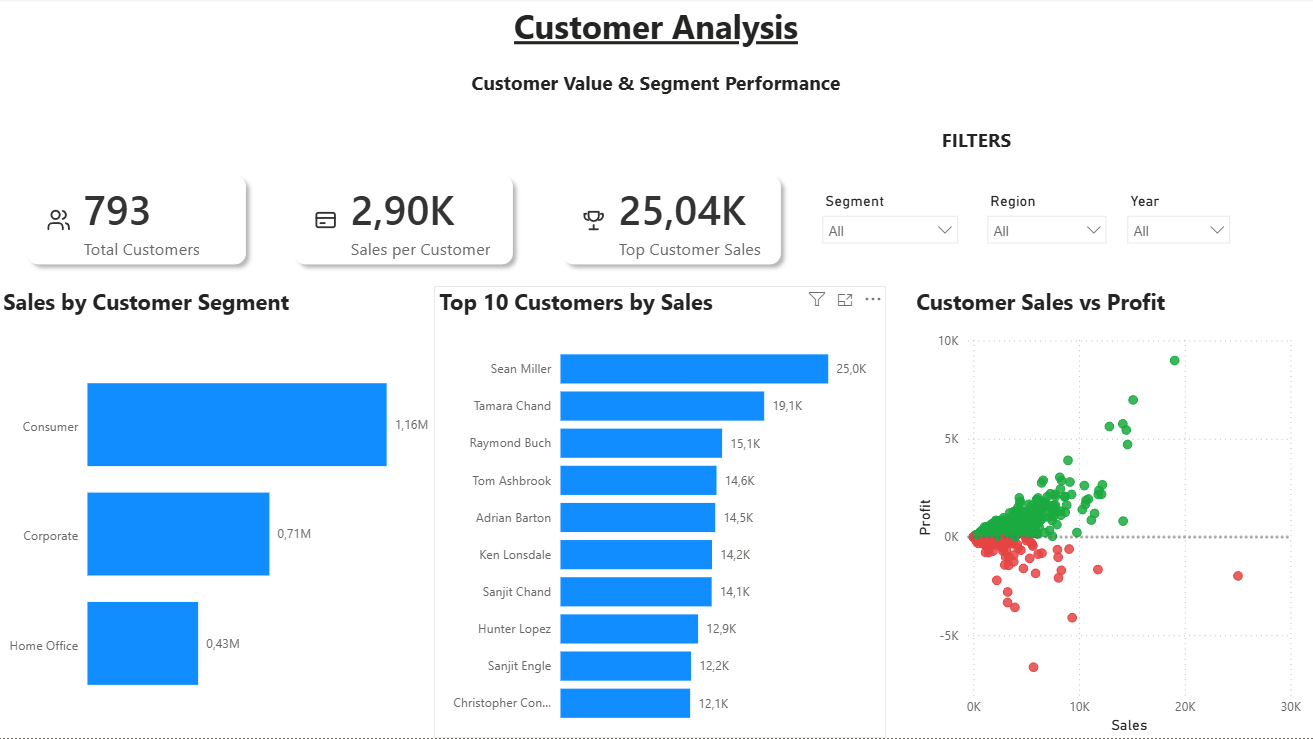

This screenshot's page, from the dashboard's own definition file:
{"tool":"powerbi","page":{"name":"Customer Analysis","canvas":[1280,720],"ordinal":2},"visuals":[{"type":"textbox","box":[0,0,1280,56],"z":0},{"type":"textbox","box":[0,64,1280,40],"z":1000},{"type":"cardVisual","fields":{"Data":["Date.Total Customers"]},"box":[0,144,270,144],"z":2000},{"type":"cardVisual","fields":{"Data":["Date.Sales per Customer"]},"box":[260,144,270,144],"z":3000},{"type":"cardVisual","fields":{"Data":["Date.Top Customer Sales"]},"box":[520,144,270,144],"z":4000},{"type":"clusteredBarChart","title":"Sales by Customer Segment","fields":{"Y":["Date.Total Sales"],"Category":["Orders.Segment"]},"box":[0,280,424,440],"z":5000},{"type":"clusteredBarChart","title":"Top 10 Customers by Sales","fields":{"Category":["Orders.Customer Name"],"Y":["Date.Total Sales"]},"box":[424,280,440,440],"z":6000},{"type":"scatterChart","title":"Customer Sales vs Profit","fields":{"Category":["Orders.Customer Name"],"X":["Date.Total Sales"],"Y":["Date.Total Profit"]},"box":[888,280,384,440],"z":7000},{"type":"slicer","fields":{"Values":["Orders.Segment"]},"box":[792,184,152,72],"z":8000},{"type":"slicer","fields":{"Values":["Orders.Region"]},"box":[952,184,136,72],"z":9000},{"type":"slicer","fields":{"Values":["Date.Year"]},"box":[1088,184,120,72],"z":10000},{"type":"textbox","box":[792,120,320,40],"z":11000}]}

Visuals, with their boxes in screenshot pixels (x1, y1, x2, y2), scaled from the page's 1280x720 canvas onto the 1313x739 screenshot:
textbox: left=0, top=0, right=1312, bottom=57
textbox: left=0, top=66, right=1312, bottom=107
cardVisual - Date.Total Customers: left=0, top=148, right=277, bottom=296
cardVisual - Date.Sales per Customer: left=267, top=148, right=544, bottom=296
cardVisual - Date.Top Customer Sales: left=533, top=148, right=810, bottom=296
"Sales by Customer Segment" clusteredBarChart: left=0, top=287, right=435, bottom=738
"Top 10 Customers by Sales" clusteredBarChart: left=435, top=287, right=886, bottom=738
"Customer Sales vs Profit" scatterChart: left=911, top=287, right=1305, bottom=738
slicer - Orders.Segment: left=812, top=189, right=968, bottom=263
slicer - Orders.Region: left=977, top=189, right=1116, bottom=263
slicer - Date.Year: left=1116, top=189, right=1239, bottom=263
textbox: left=812, top=123, right=1141, bottom=164
